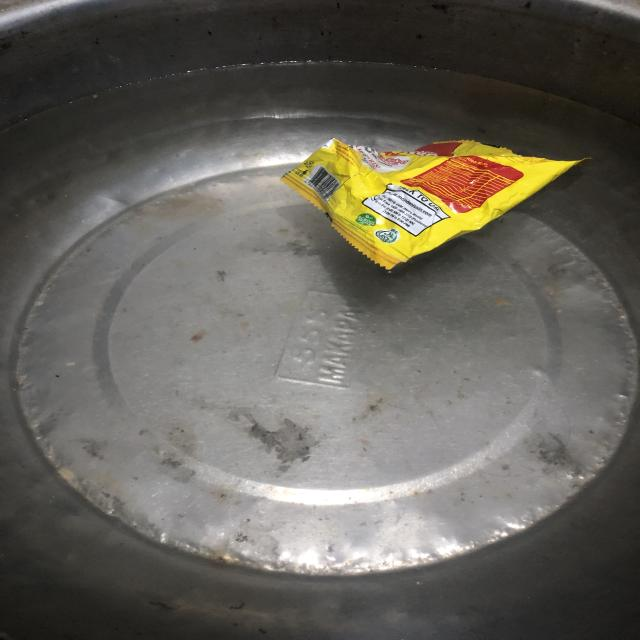Plastic Wrapper: (282, 110, 583, 280)
